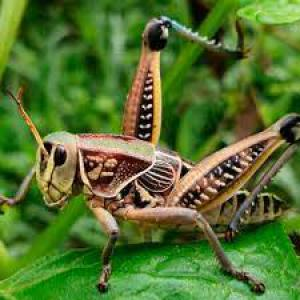locust: (8, 30, 300, 277)
